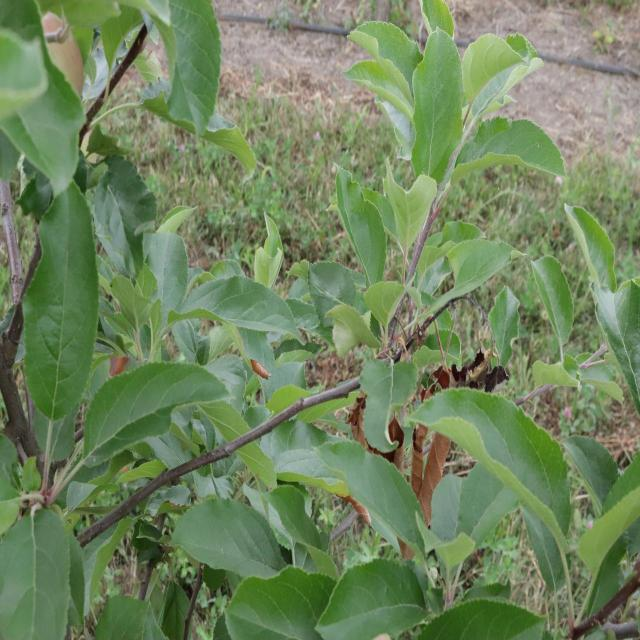-FireBlight-: (352, 314, 516, 525)
